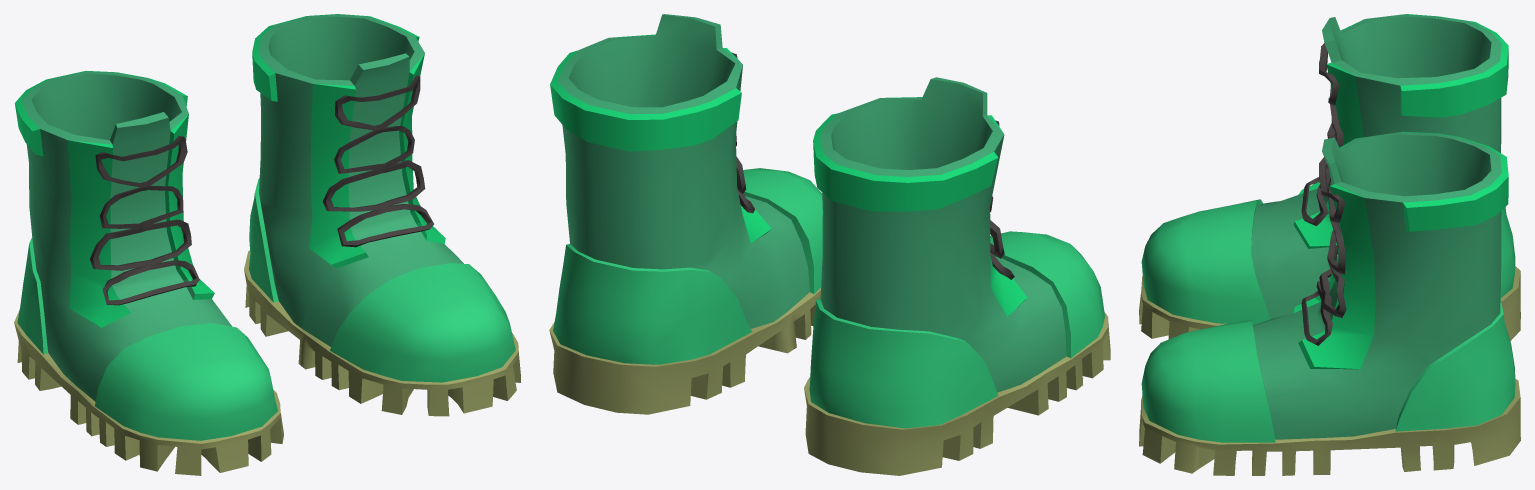
The model's file is Shoes_17_03.fbx.
3 renders of one model, left to right at view 1: azimuth 30°, elevation 25°; view 2: azimuth 150°, elevation 25°; view 3: azimuth 270°, elevation 25°, orthographic. The views are drawn at different scales.
Parts seen in each view (by area): view 1: Shoes_17_03; view 2: Shoes_17_03; view 3: Shoes_17_03.
Part boxes in pixels (box(x1,y1,x2,y2)): Shoes_17_03: box(14, 14, 520, 475); Shoes_17_03: box(549, 14, 1110, 475); Shoes_17_03: box(1139, 14, 1520, 475).
Size of the model in its own units: 29.81 by 20.56 by 24.51.
